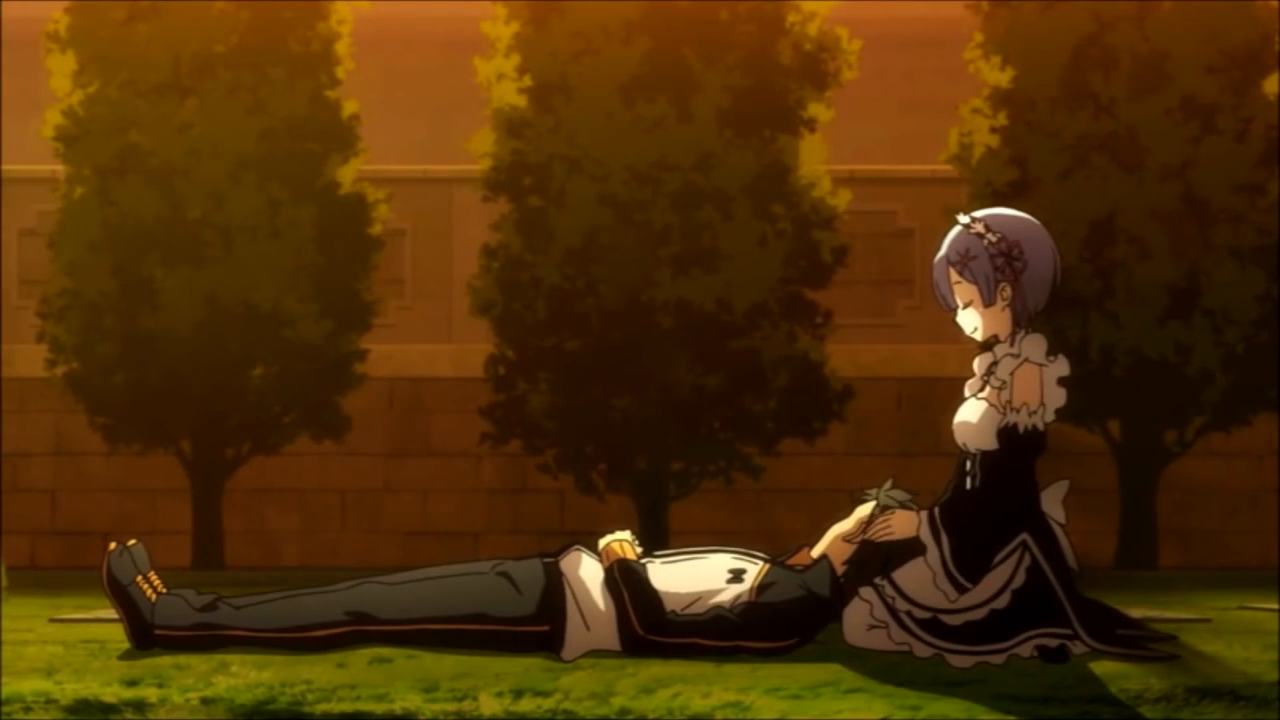REM: (931, 202, 1064, 347)
